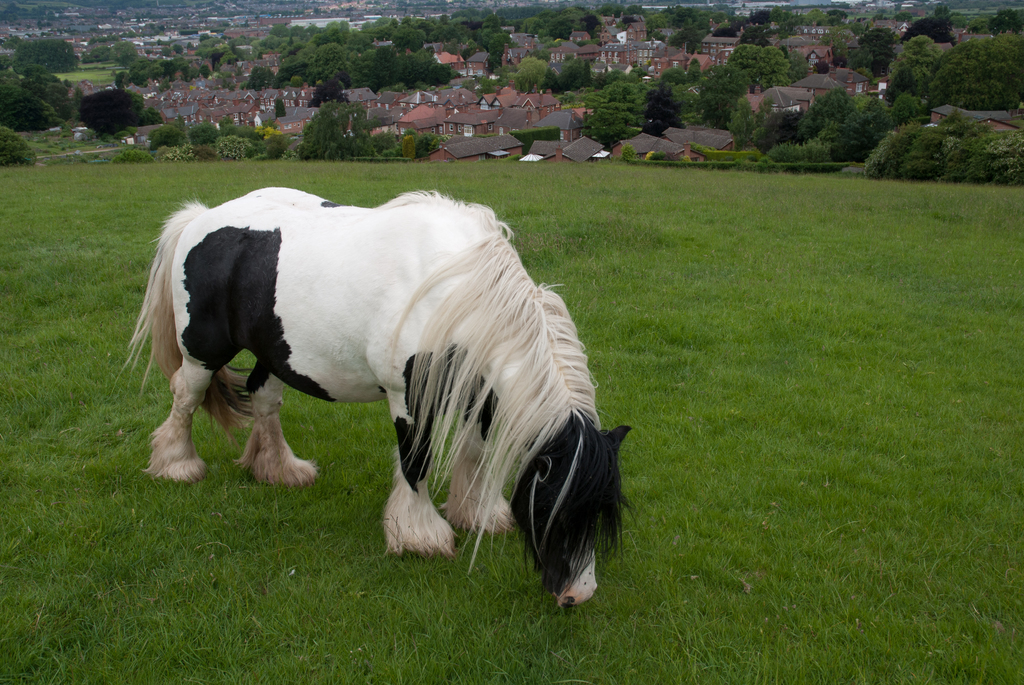horse: (128, 189, 631, 603)
